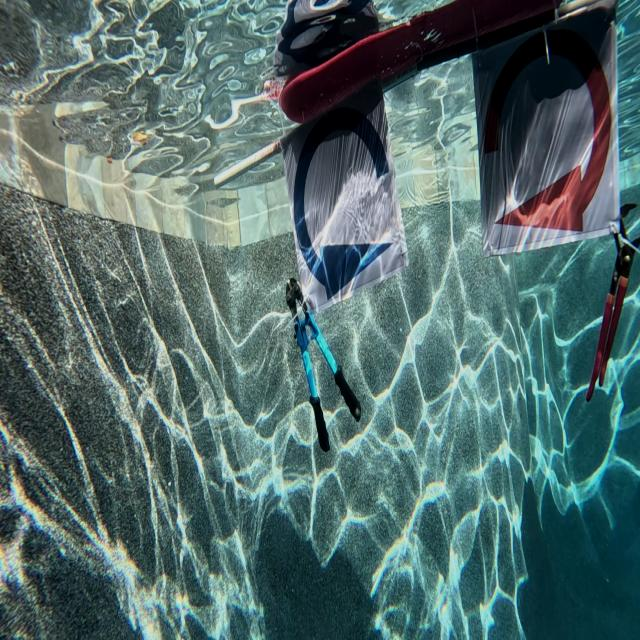blue_side: (282, 73, 408, 305)
red_side: (460, 0, 634, 248)
